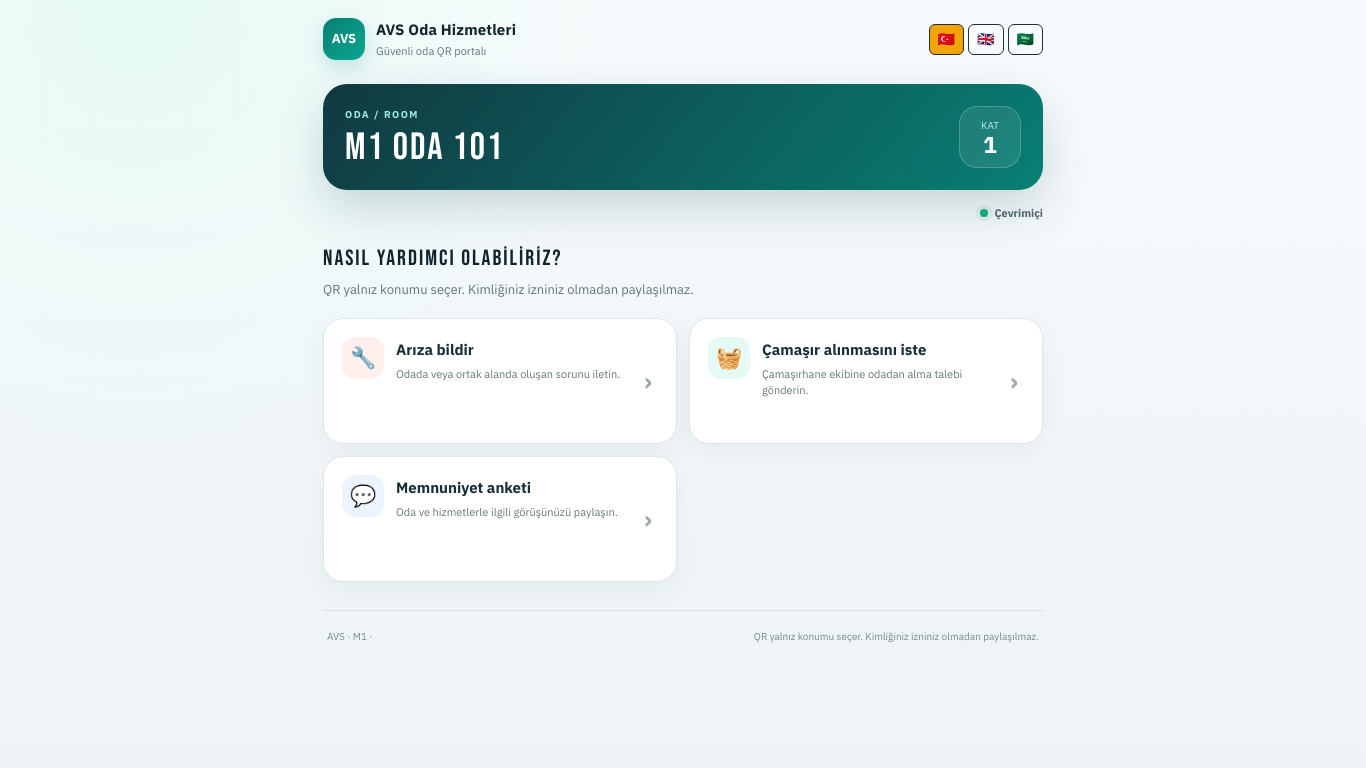
RoomPortalPage › PIN zorunlu işlemde konuma bağlı oturumu tutar ve arıza formunu açar
The image size is (1366, 768).
Click the button "Arıza bildir" at [500, 380], box [323, 318, 677, 444]
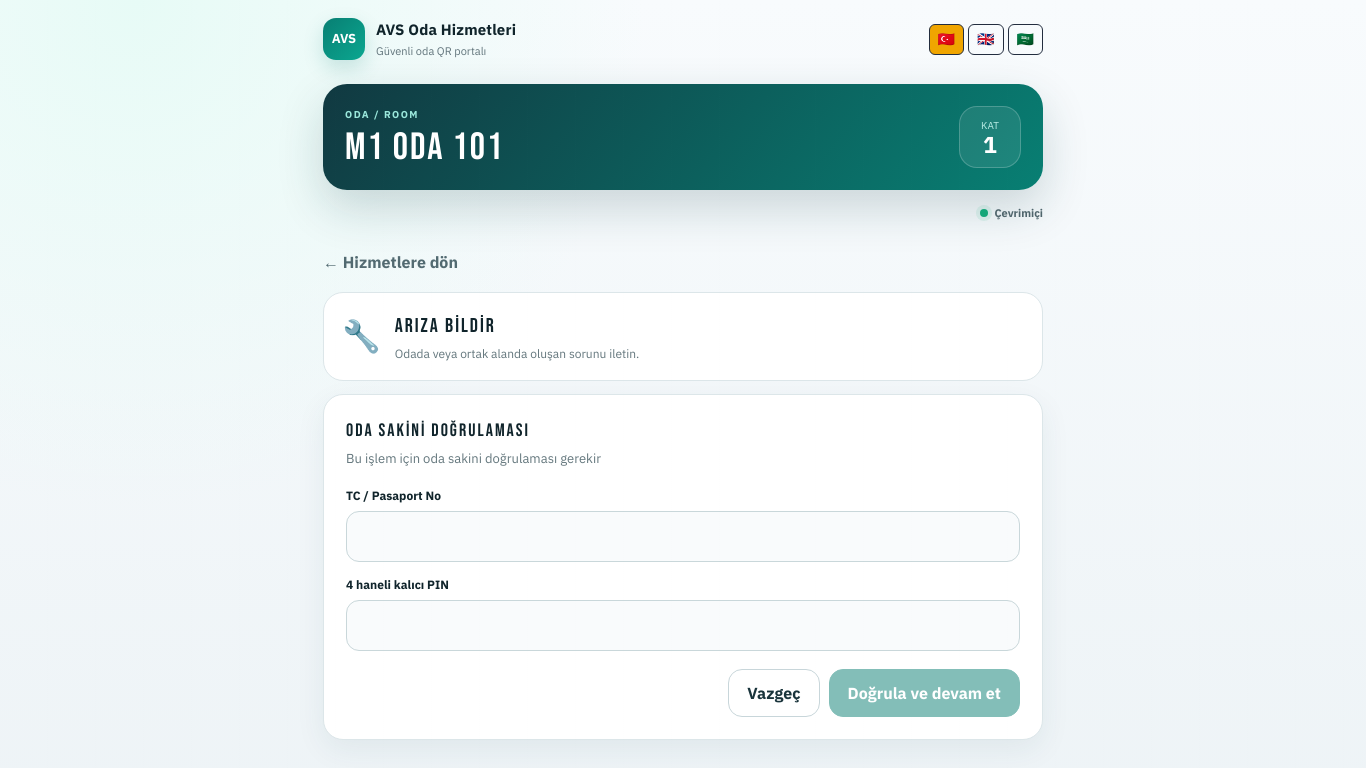
Type "12345678901" into the field labelled "TC / Pasaport No" at [683, 536], box [346, 511, 1020, 562]
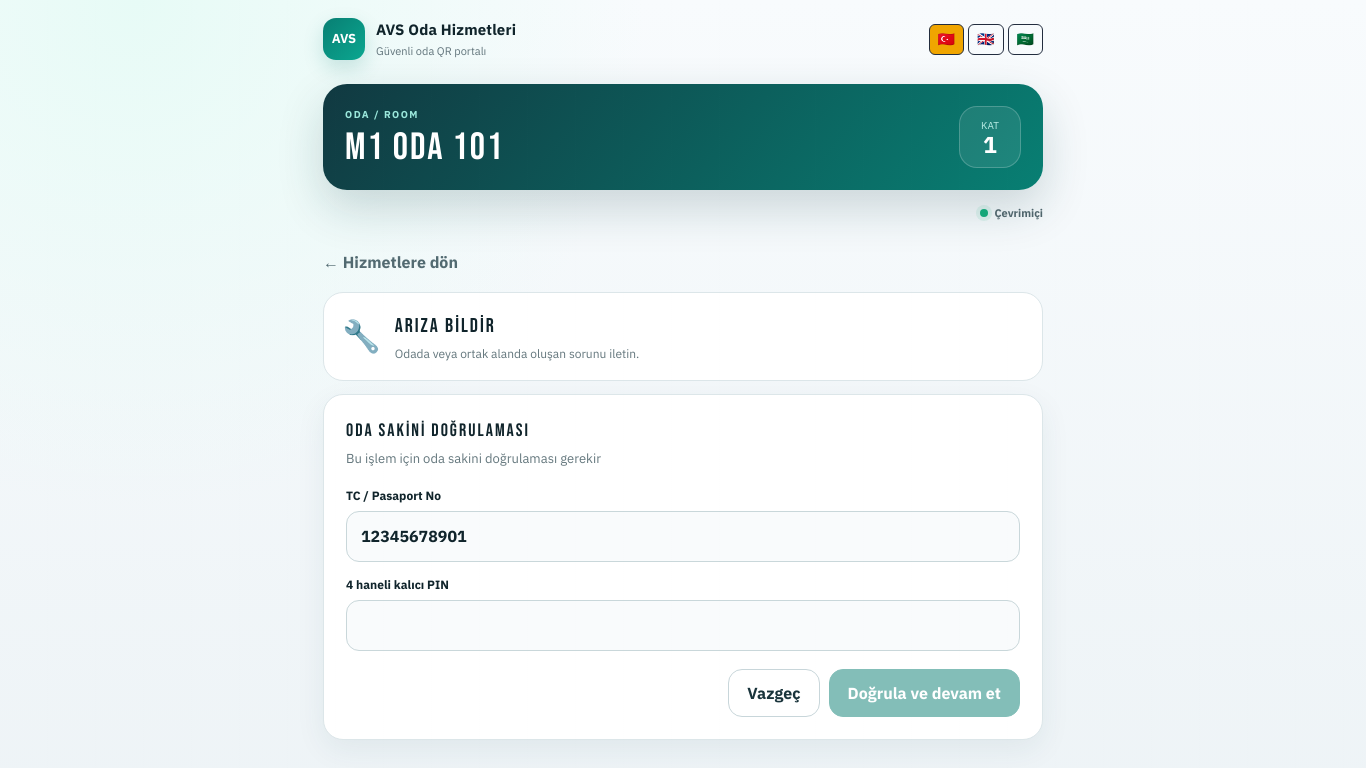
Type "2468" into the field labelled "4 haneli kalıcı PIN" at [683, 625], box [346, 600, 1020, 651]
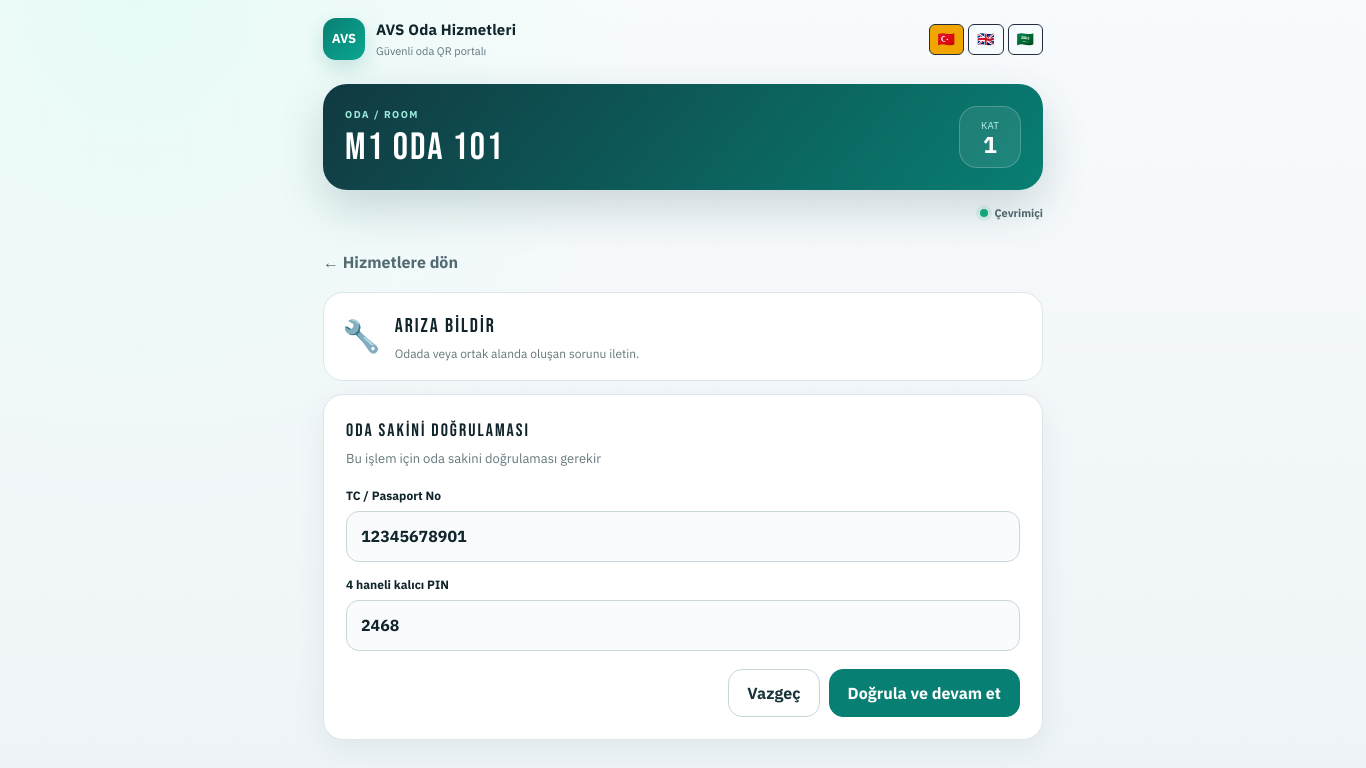
Click the button "Doğrula ve devam et" at [924, 693], box [828, 669, 1020, 717]
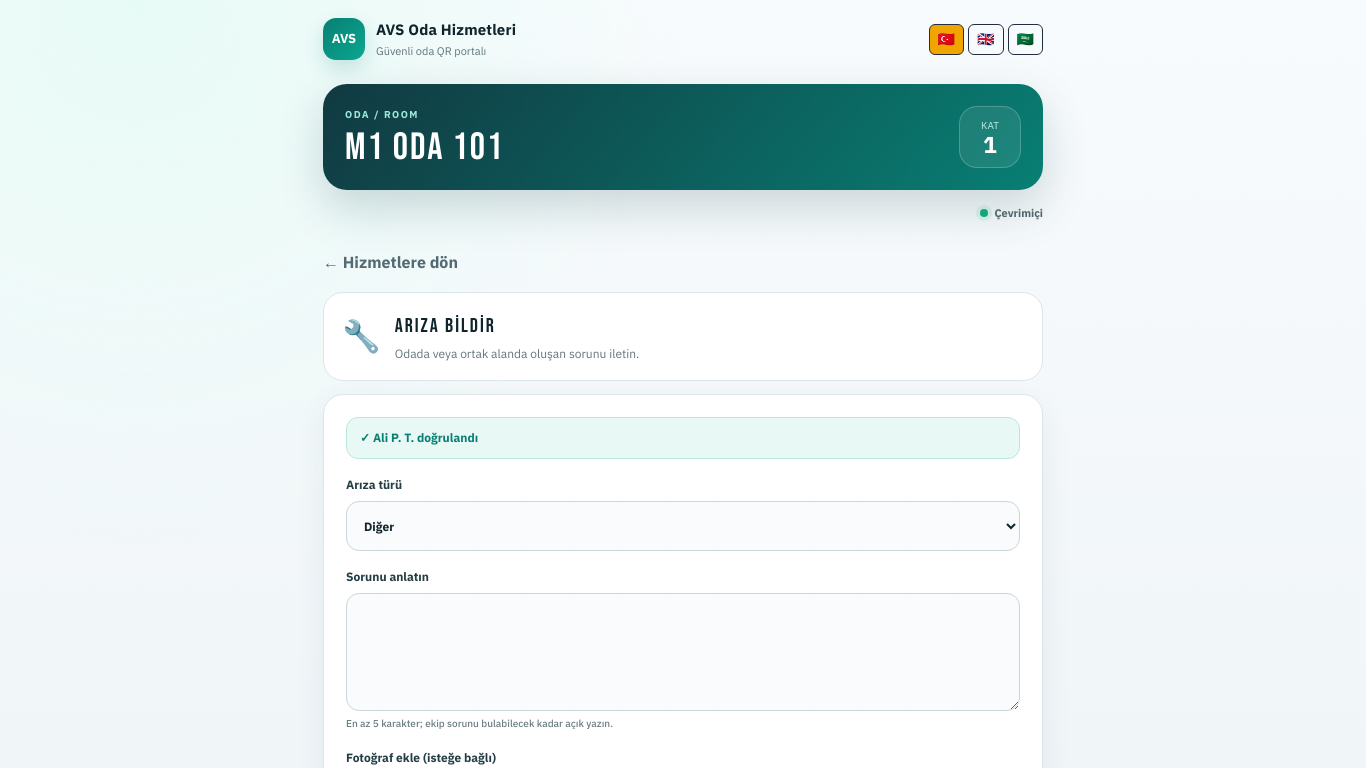
Check: the text "✓ Ali P. T. doğrulandı" is shown, box [346, 417, 1020, 459]
Check: the text box labelled "Sorunu anlatın" is shown, box [346, 593, 1020, 711]
